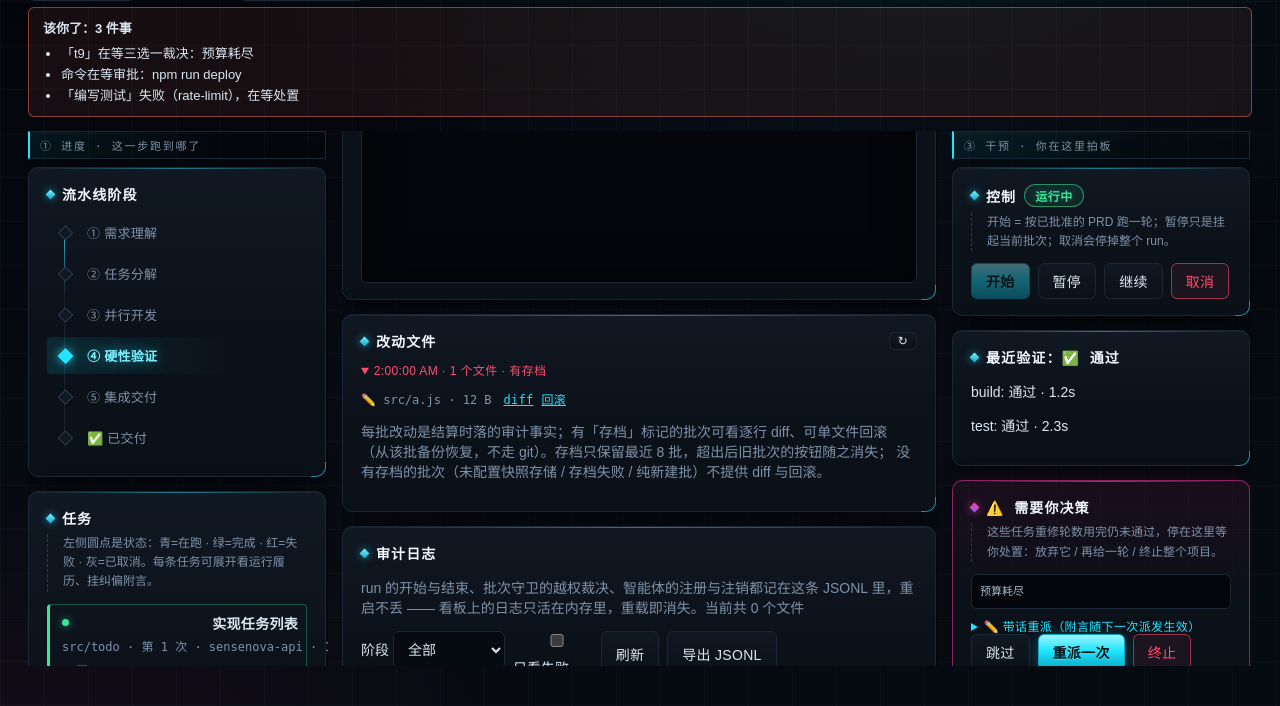
Test: BoardPage › 改动文件面板（changes:list + diff / 回滚） › 回滚被主进程拒绝时把理由摆出来（不静默）
(page scrolled)
Click the button titled "从本批存档恢复这个文件（需二次确认）": (554, 398) [537, 390, 570, 407]
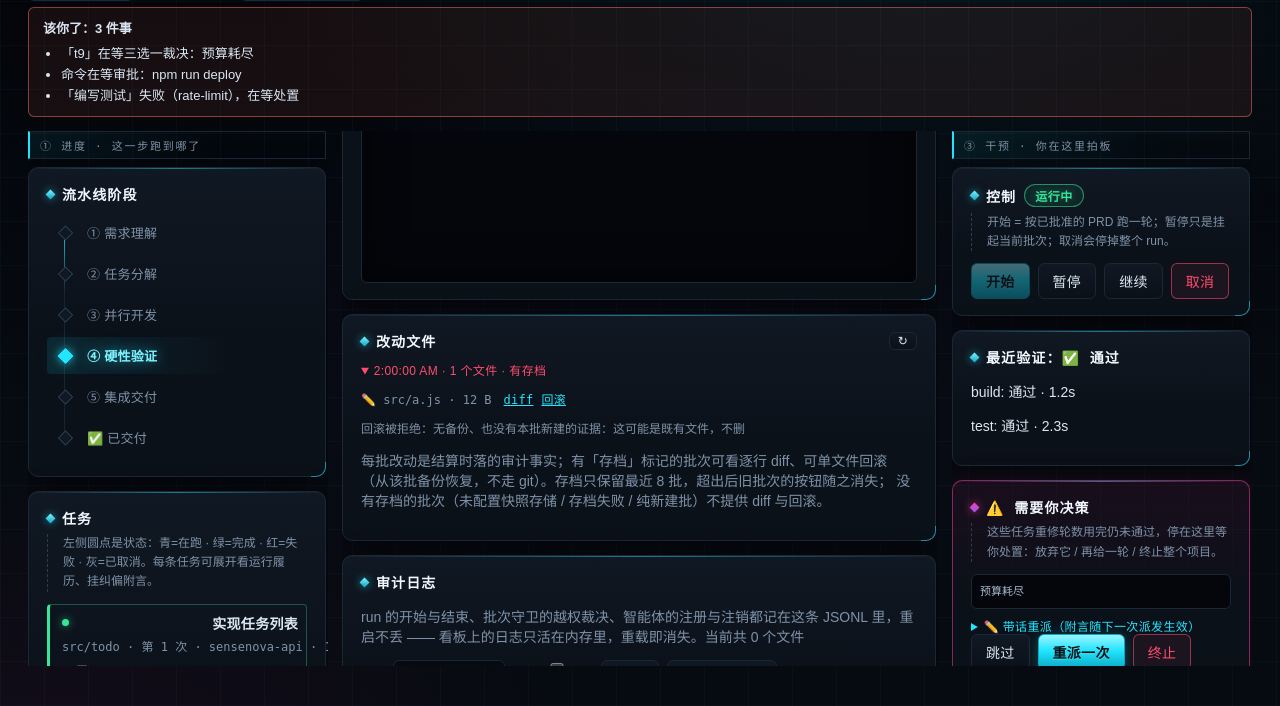
Now the text "回滚被拒绝：无备份、也没有本批新建的证据：这可能是既有文件，不删" is shown, box [361, 422, 745, 436]
